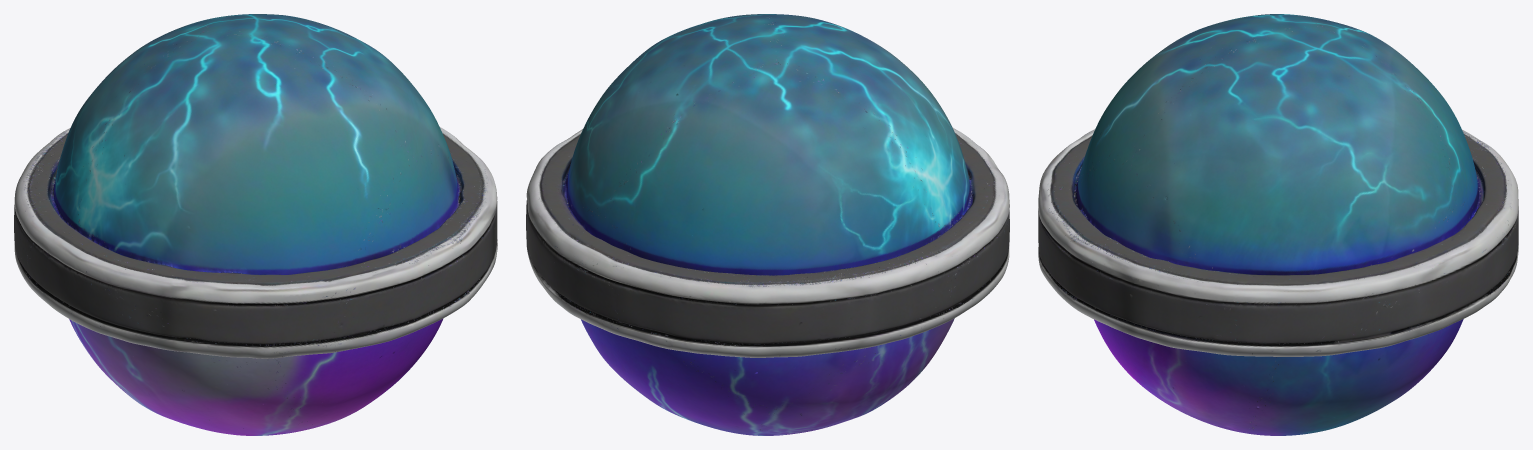
Rendered from Energy_Core.glb.
The picture shows the model from 3 angles, left to right: view 1: azimuth 30°, elevation 25°; view 2: azimuth 150°, elevation 25°; view 3: azimuth 270°, elevation 25°; orthographic projection.
Size of the model in its own units: 2 by 1.74 by 2.
Materials: 1 (1 with a texture image).
